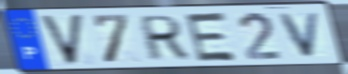2: (236, 10, 285, 61)
7: (92, 13, 133, 65)
E: (183, 11, 241, 64)
R: (139, 13, 191, 62)
V: (37, 12, 86, 67), (277, 10, 323, 59)
